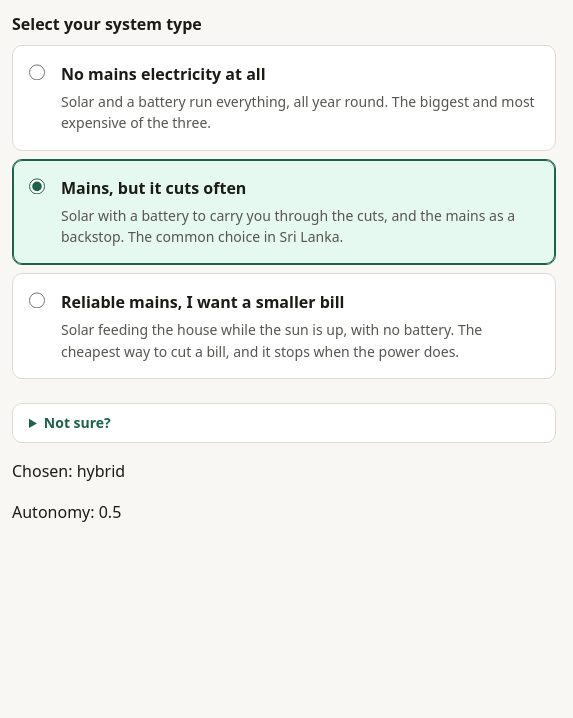
Test case: StepSystemType › allows redoing the not-sure path from the confirmation
Click the heading "Not sure?" at (77, 423), box [44, 413, 111, 432]
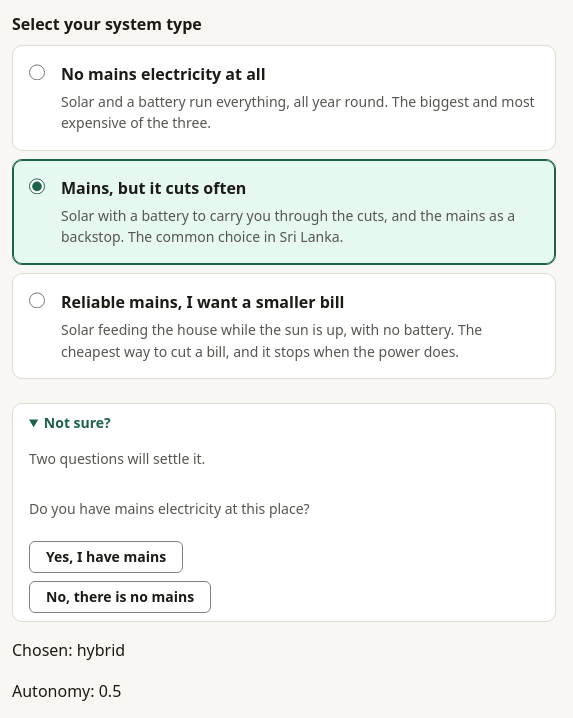
Click the button "No, there is no mains" at (120, 597), box [29, 581, 211, 613]
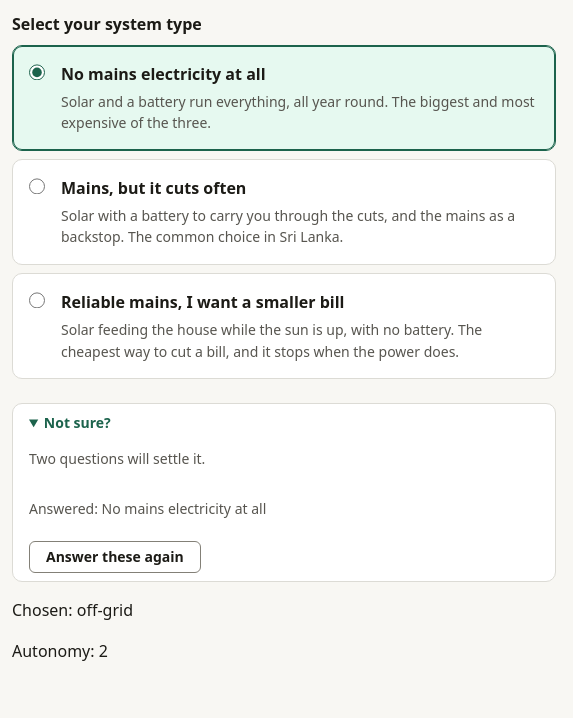
Click the button "Answer these again" at (115, 557), box [29, 541, 201, 573]
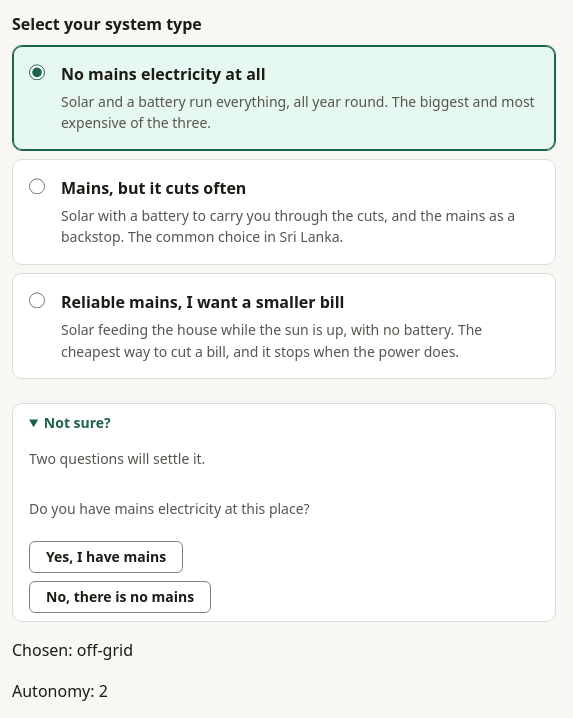
Now the button "Yes, I have mains" is shown, box [29, 541, 183, 573]
